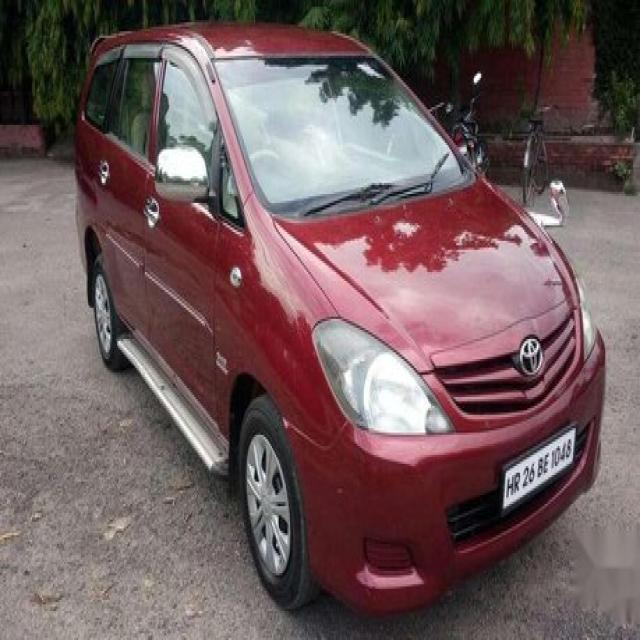light_vehicle: (73, 20, 606, 618)
